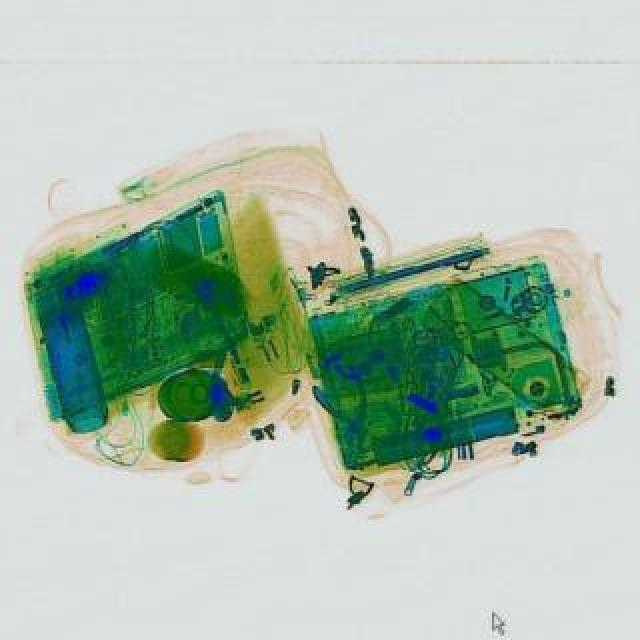wrench: (310, 370, 382, 454)
